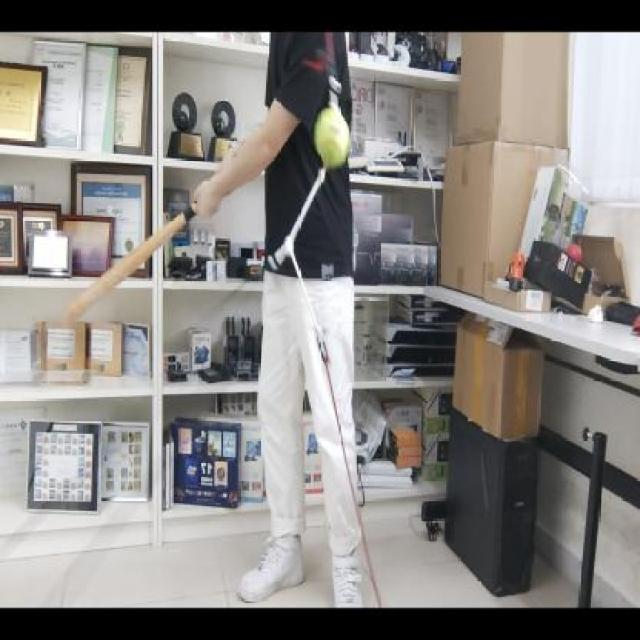baseball: (312, 106, 352, 172)
